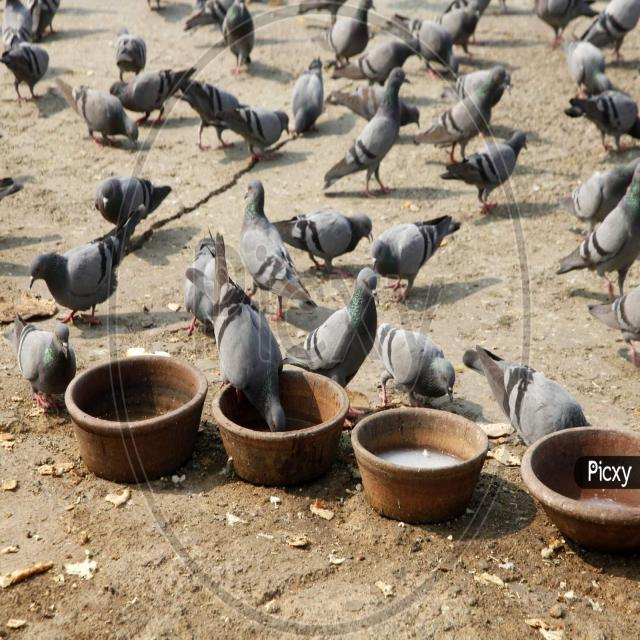bird: (201, 276, 291, 436), (288, 264, 390, 386), (338, 66, 418, 209), (26, 239, 140, 333), (240, 173, 303, 317), (378, 313, 464, 412), (422, 64, 514, 156), (453, 128, 531, 222), (23, 308, 83, 416), (61, 82, 144, 151), (97, 177, 172, 249), (213, 93, 290, 158)
